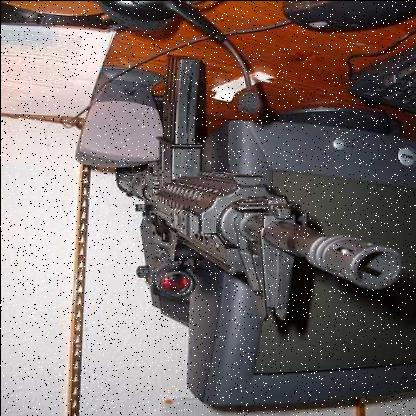rifle: (81, 46, 409, 323)
